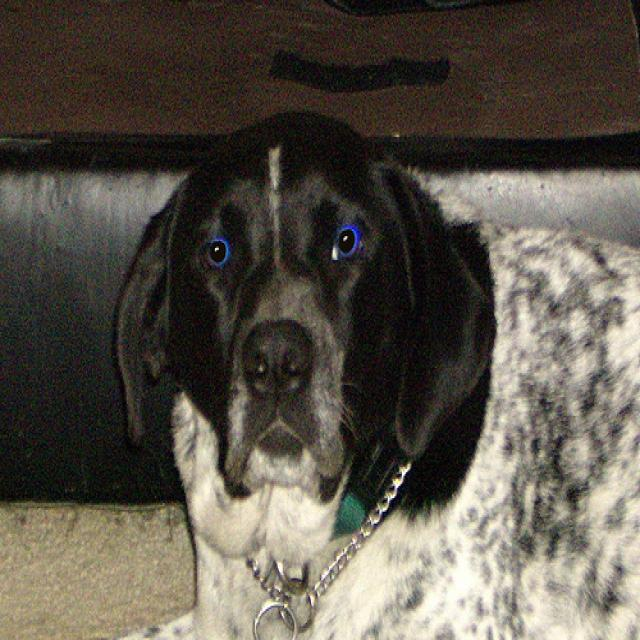dog-german_shorthaired: (102, 106, 637, 637)
